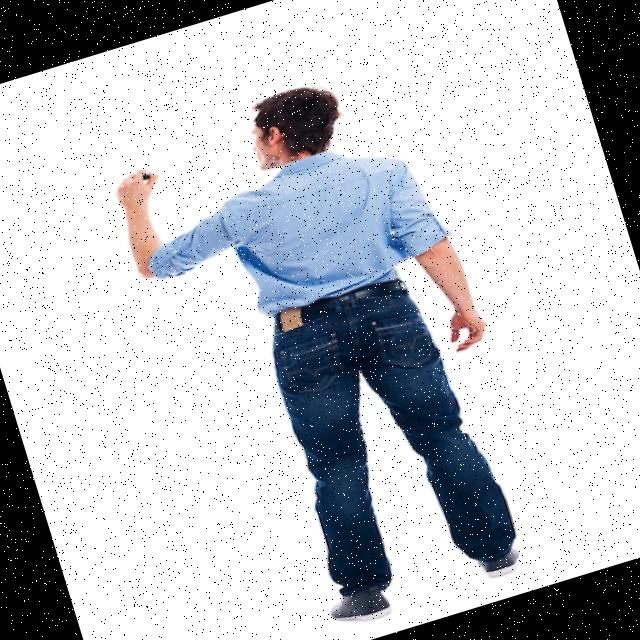Person: (99, 53, 557, 640)
